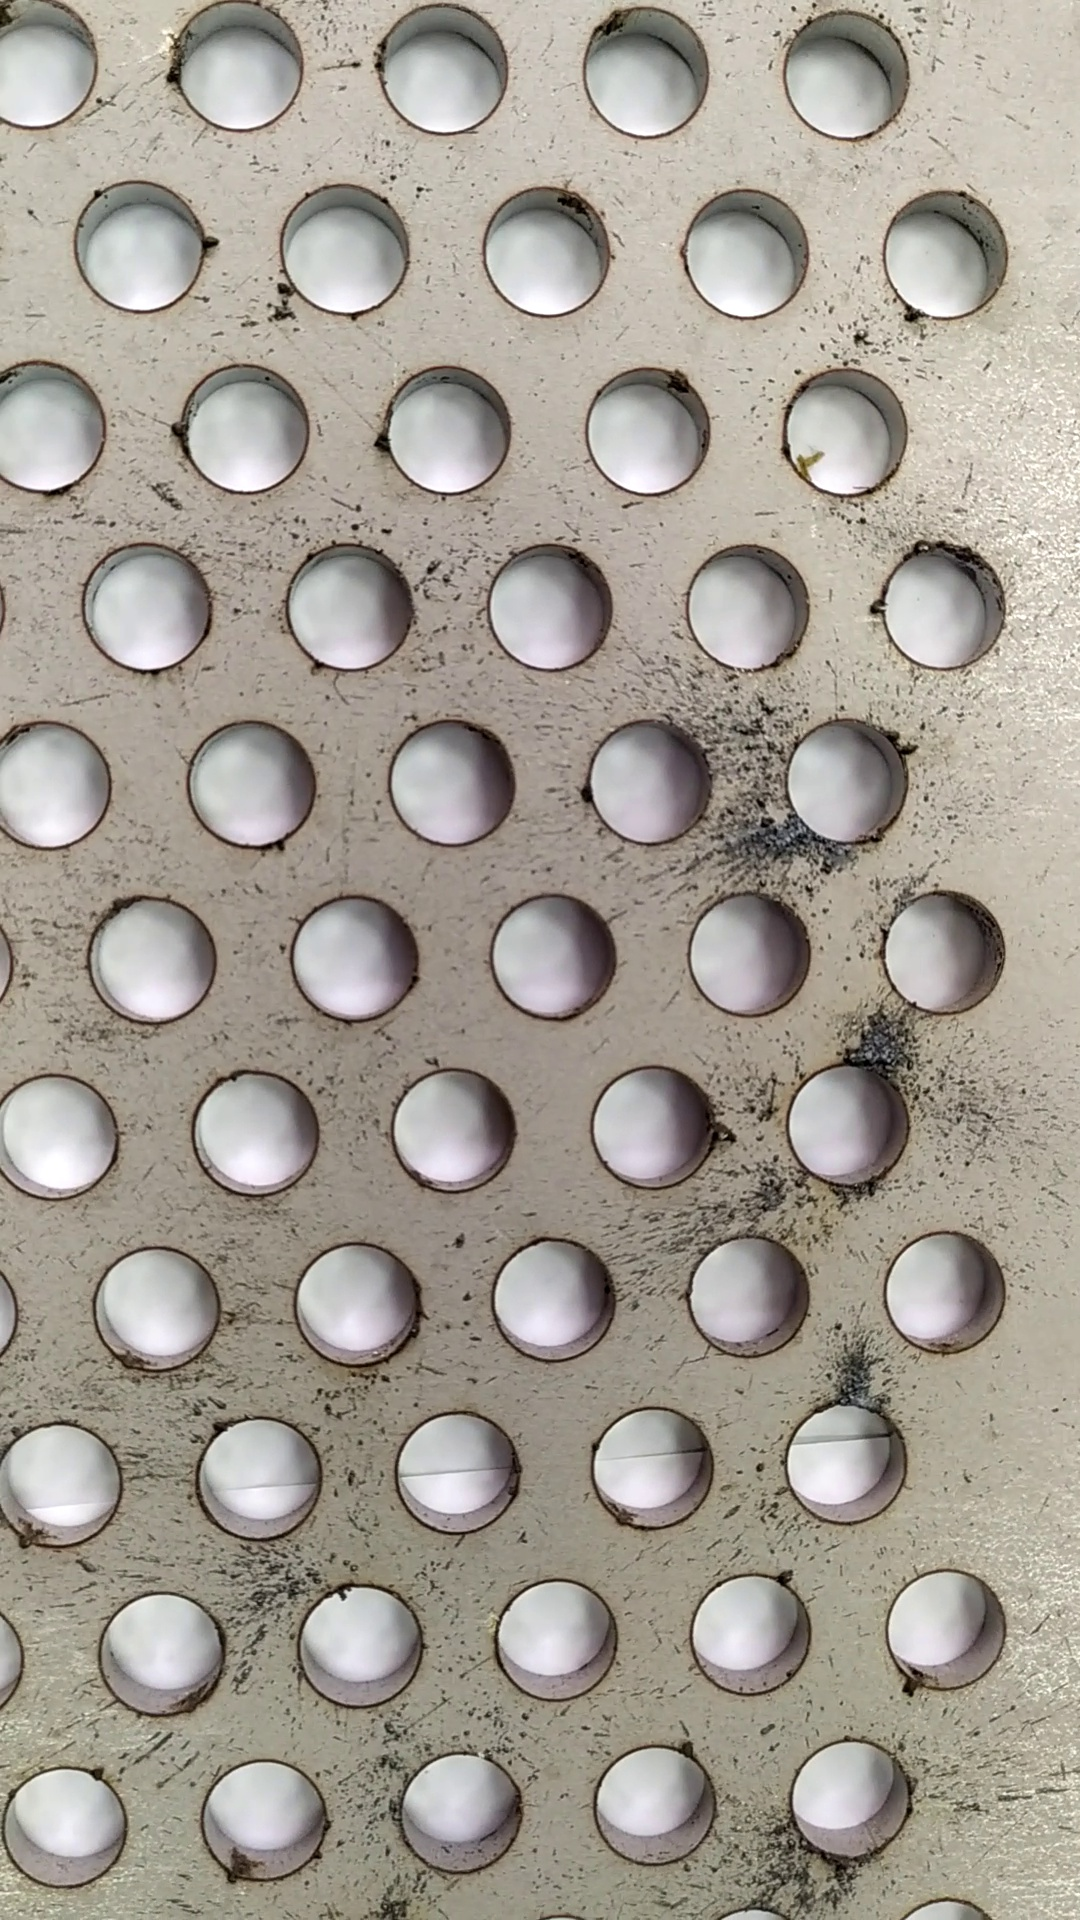Hole: (861, 527, 1021, 683), (378, 1396, 541, 1545), (355, 1, 518, 146), (63, 173, 222, 319), (371, 711, 530, 856), (567, 703, 720, 852), (575, 1052, 728, 1201), (471, 175, 626, 322), (773, 1720, 928, 1866), (157, 1, 318, 142), (371, 353, 520, 505), (269, 177, 422, 324), (173, 711, 326, 858), (181, 1403, 336, 1548), (280, 885, 436, 1029), (568, 1, 720, 148), (571, 357, 717, 509), (272, 534, 429, 675), (771, 360, 920, 506), (671, 1224, 824, 1366), (67, 538, 225, 675), (675, 179, 820, 328), (385, 1742, 535, 1884), (173, 356, 322, 498), (475, 534, 624, 676), (385, 1056, 527, 1205), (876, 1222, 1026, 1364), (280, 1232, 430, 1373), (189, 1754, 347, 1887), (869, 181, 1014, 326), (181, 1062, 326, 1207), (675, 535, 822, 679), (777, 703, 922, 847), (73, 889, 224, 1026), (479, 1571, 632, 1706), (280, 1578, 434, 1713), (479, 1230, 624, 1371), (877, 877, 1015, 1025), (479, 885, 620, 1029), (773, 1391, 916, 1532), (876, 1563, 1026, 1697), (779, 1, 922, 142), (4, 1762, 145, 1903), (779, 1054, 916, 1199), (583, 1396, 720, 1542), (80, 1238, 229, 1371), (683, 1564, 825, 1701), (585, 1741, 731, 1870), (680, 885, 818, 1021), (91, 1585, 229, 1720)
